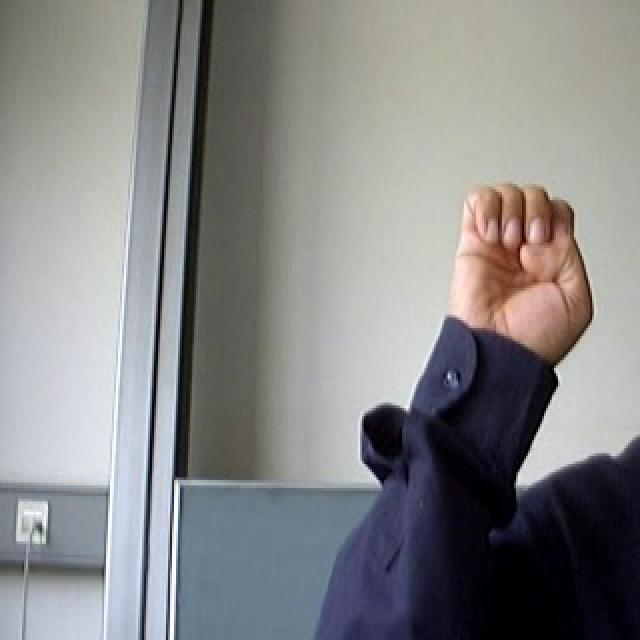E: (437, 165, 602, 368)
